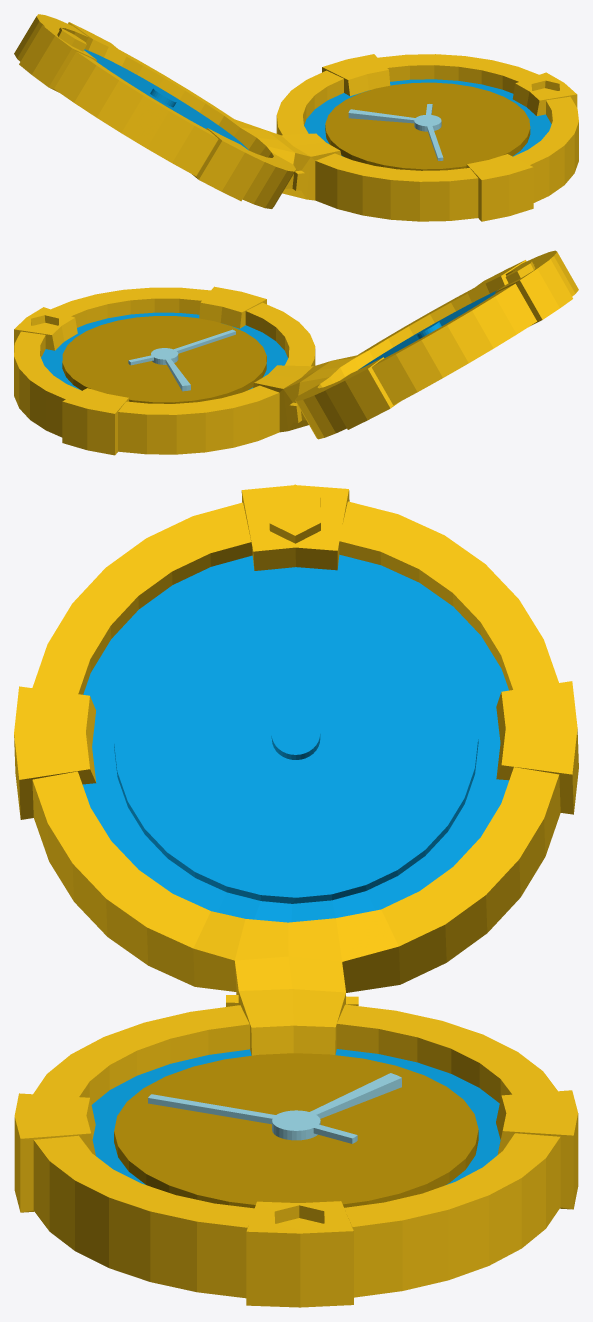
The model's file is Watch.fbx.
3 views of the same model, one above another, from view 1: azimuth 30°, elevation 25°; view 2: azimuth 150°, elevation 25°; view 3: azimuth 270°, elevation 25° (orthographic). The views are drawn at different scales.
Visible parts, largest first — view 1: Cylinder; view 2: Cylinder; view 3: Cylinder.
Boxes of the visible parts, x1=… form: Cylinder: x1=14, y1=14, x2=578, y2=221; Cylinder: x1=14, y1=250, x2=578, y2=455; Cylinder: x1=14, y1=484, x2=578, y2=1307.
Size of the model in its own units: 241 by 94.33 by 125.
